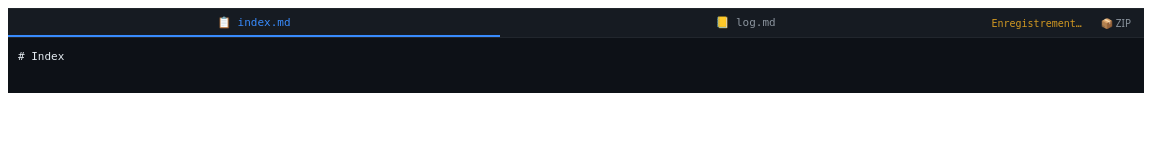
SideFiles — live disk-save status indicator › reflects saveStatus.log after switching to the log tab
Click the button "📒 log.md" at (746, 23), box x1=500 y1=9 x2=991 y2=37
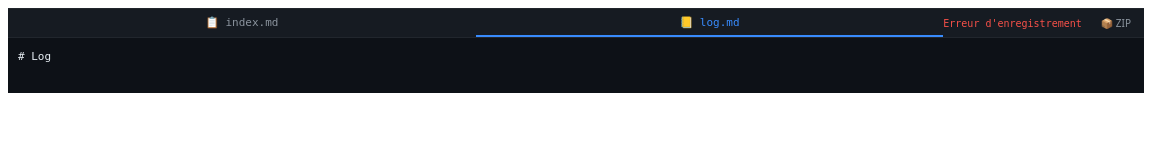
Expected: the text "Erreur d'enregistrement" is shown, x1=943 y1=18 x2=1082 y2=28
